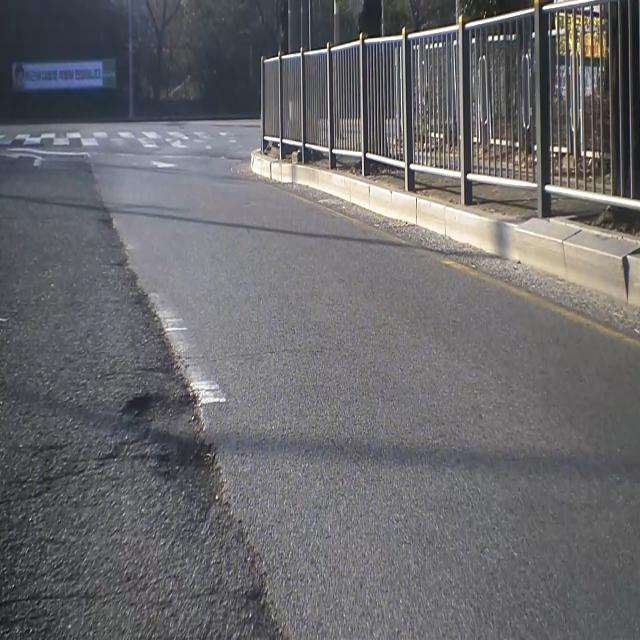Pothole: (122, 374, 228, 518)
